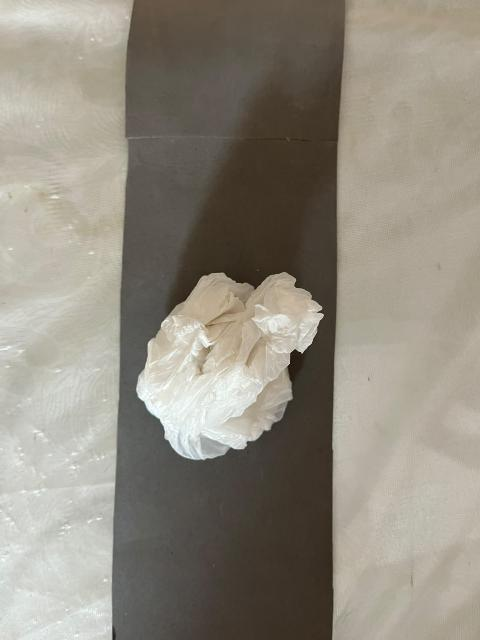LDPE: (119, 232, 352, 500)
